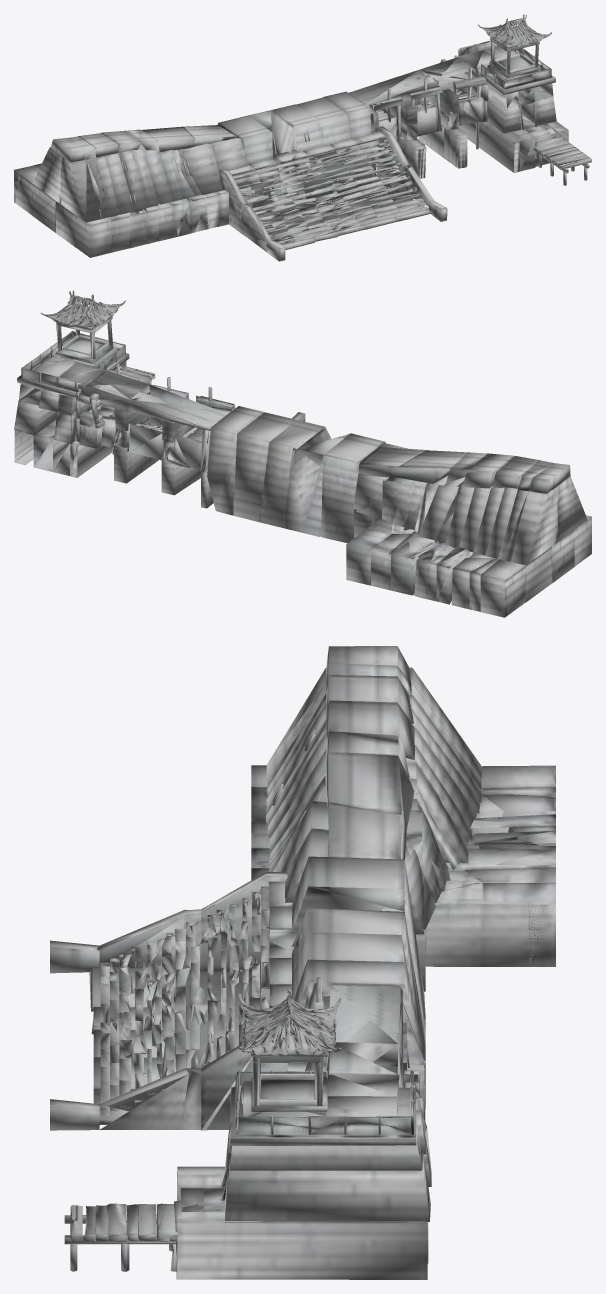
Rendered from yuliang_dam.glb.
3 views of the same model, one above another, from view 1: azimuth 30°, elevation 25°; view 2: azimuth 150°, elevation 25°; view 3: azimuth 270°, elevation 25° (orthographic). The views are drawn at different scales.
Size of the model in its own units: 0.9531 by 0.2571 by 0.4526.
1 material, 1 textured.
